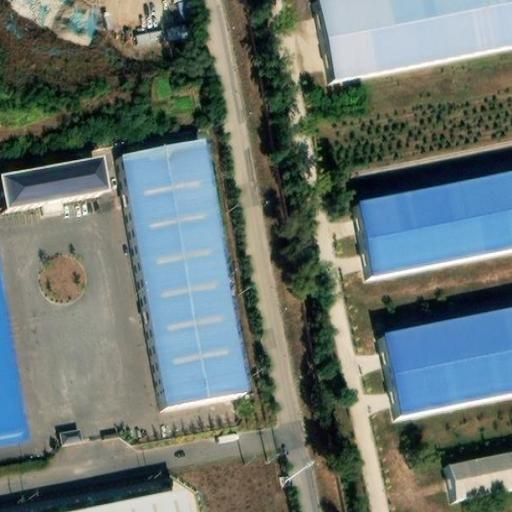building: (111, 147, 245, 413), (349, 173, 512, 281), (319, 0, 512, 79), (378, 315, 512, 421), (1, 480, 197, 512), (0, 257, 29, 441), (449, 449, 512, 504), (136, 22, 194, 48), (56, 425, 85, 446)
